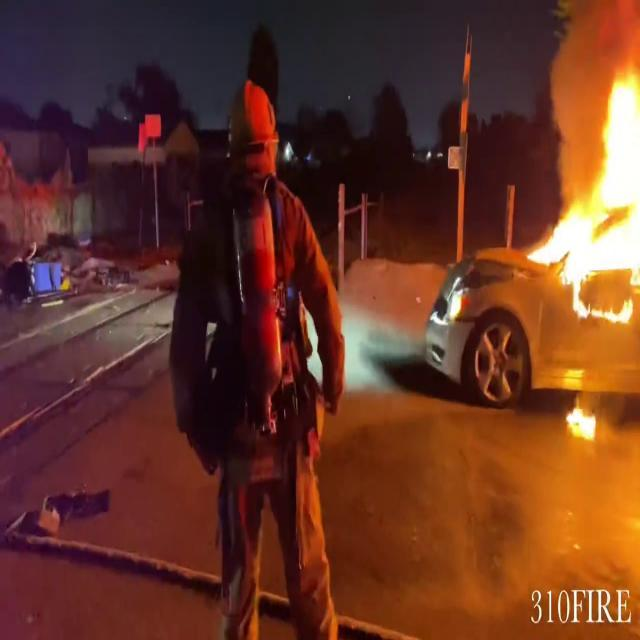Fire: (529, 54, 640, 316), (564, 394, 600, 446)
